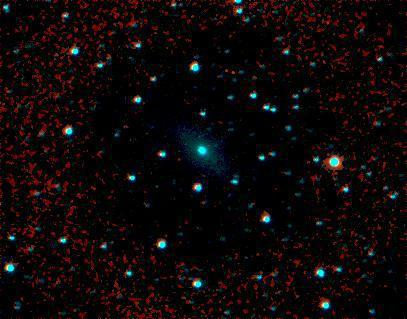star: (216, 57, 246, 87)
